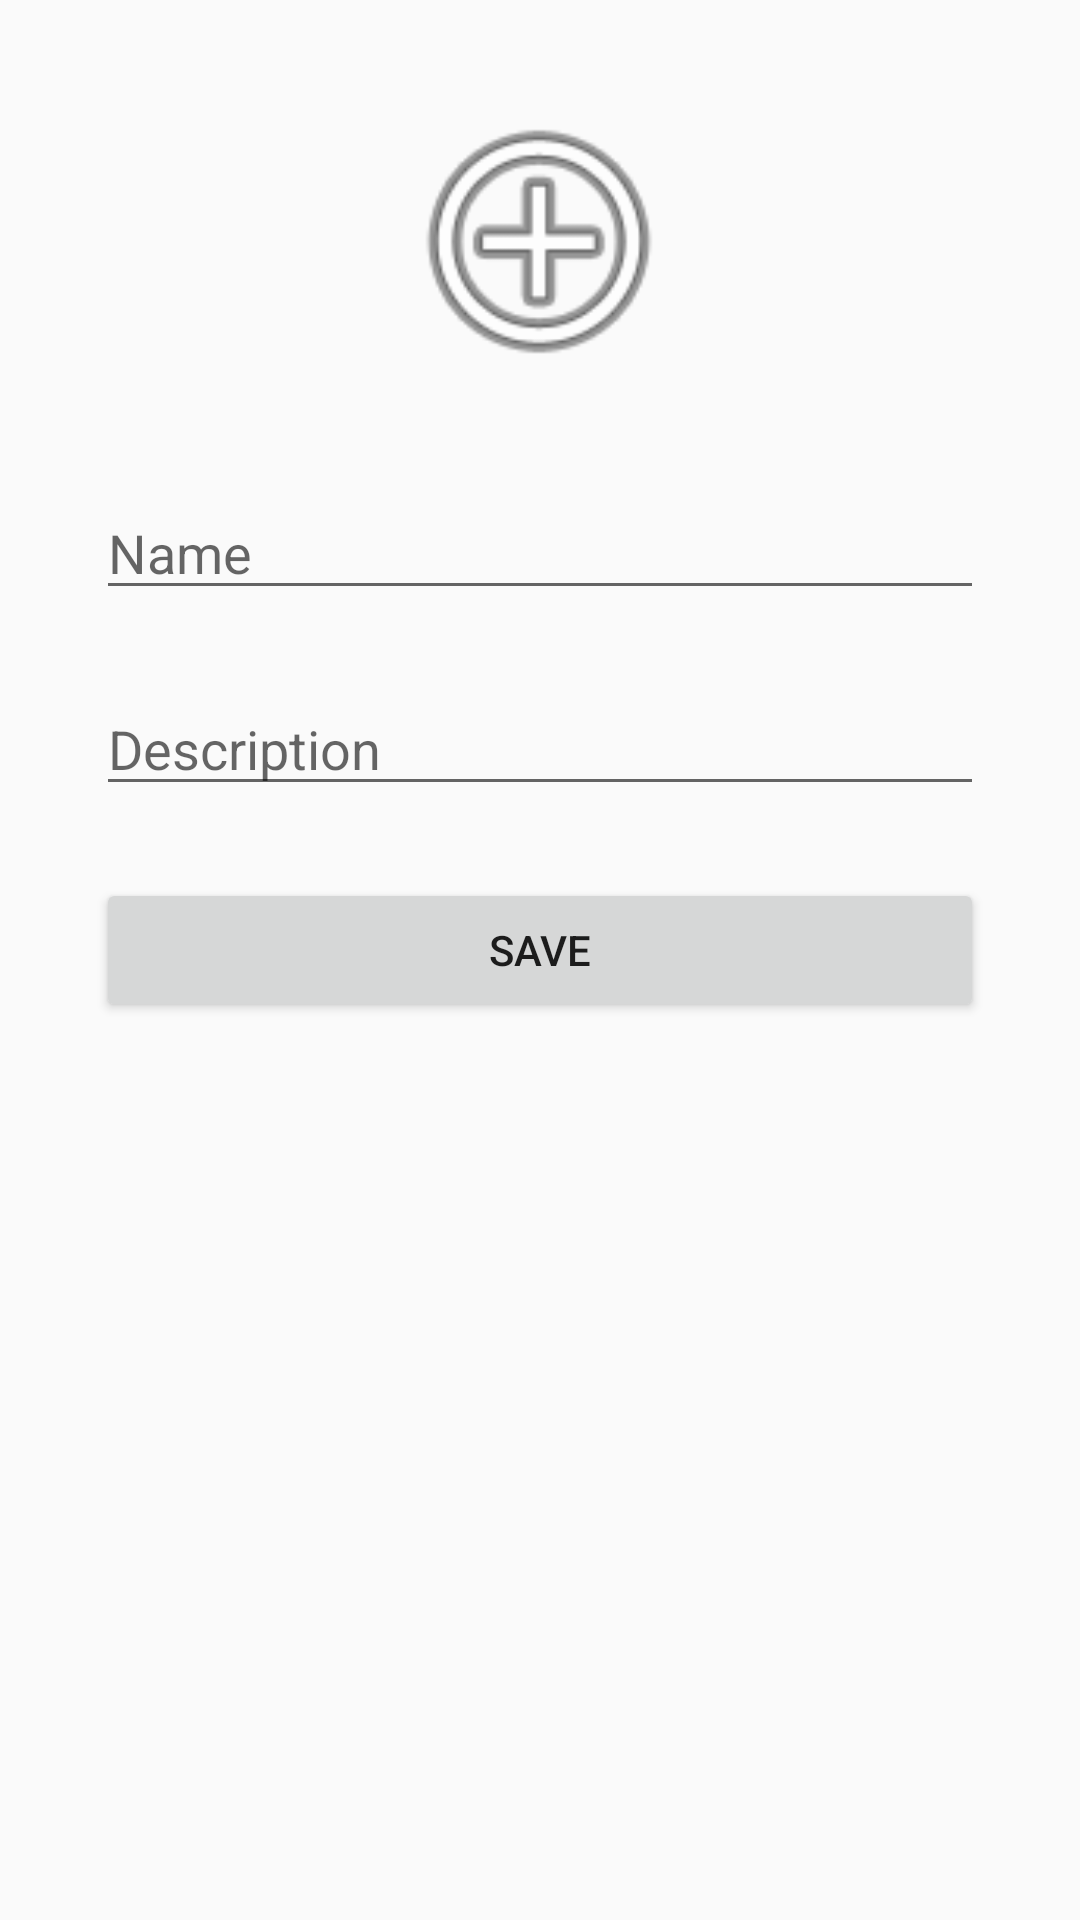

Named icons in this screenshot (1080px x 1920px) and their centers, (x,y):
add: (539,241)
